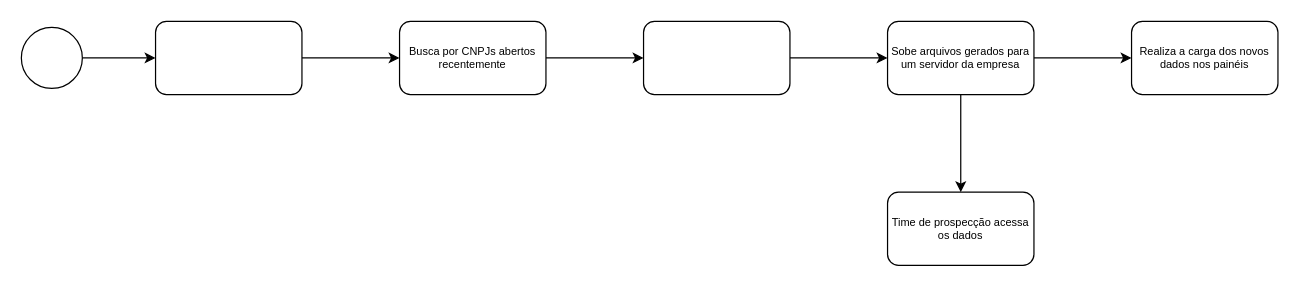
The diagram is 1299 pixels wide and 287 high, and some of its shapes have lost their labels. Here are the shapes that lost their labels. From the top down, the box of each, then its label:
(154, 20, 302, 95): Acessa casa dos dados
(642, 20, 790, 95): Extrai informações e coloca em um excel
